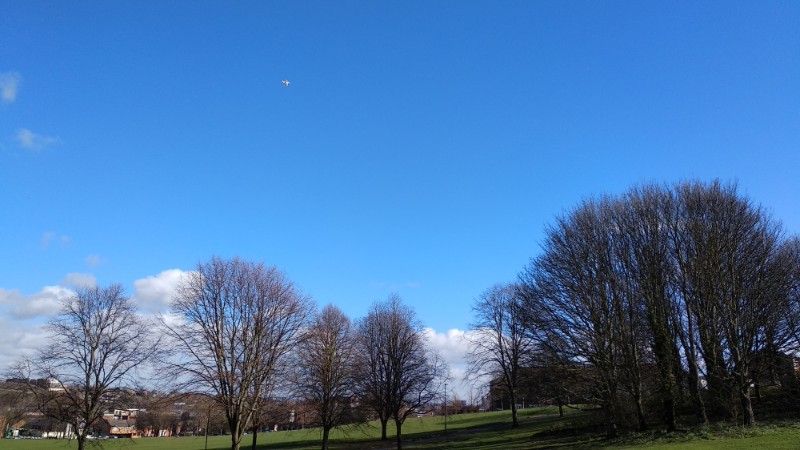drone: (280, 78, 292, 88)
